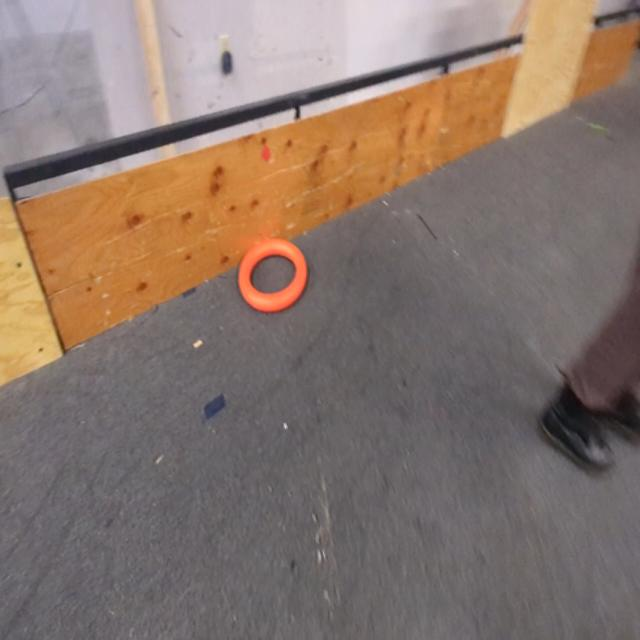note: (238, 238, 309, 311)
